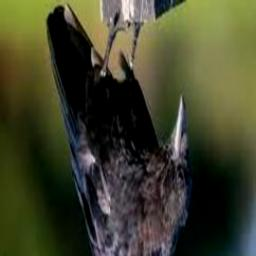Crow: (45, 1, 190, 256)
